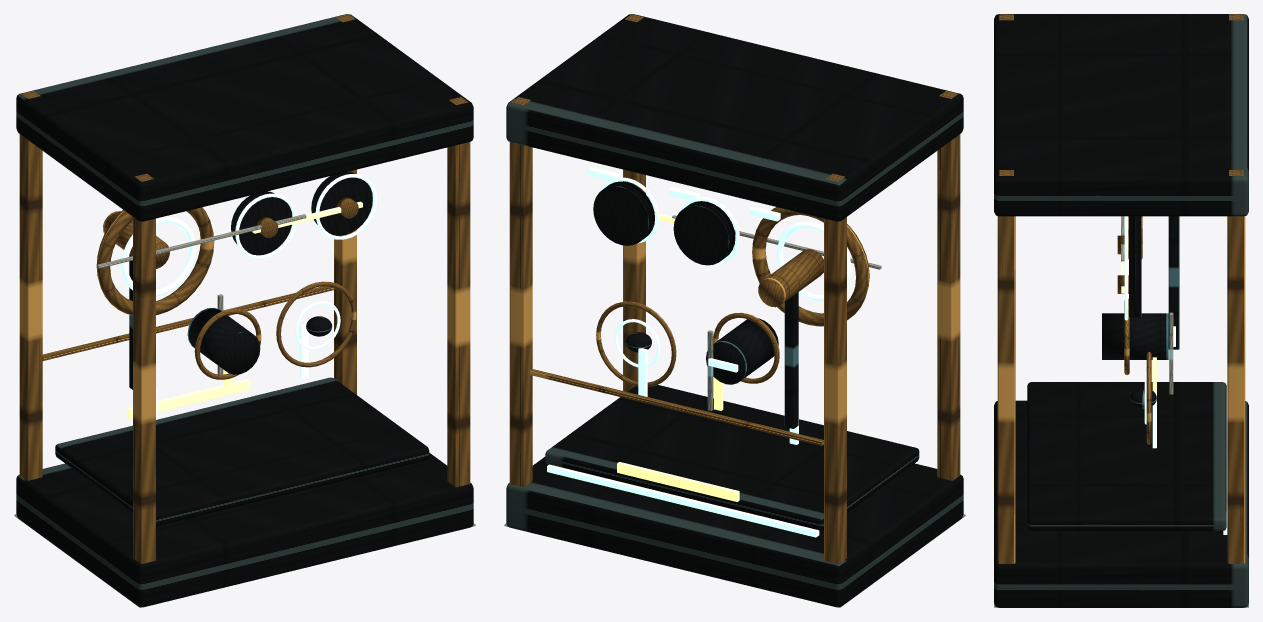
Rendered from age_museum_voice_booth.glb.
3 views of the same model, side by side, from view 1: azimuth 30°, elevation 25°; view 2: azimuth 150°, elevation 25°; view 3: azimuth 270°, elevation 25° (orthographic).
Visible parts, largest first — view 1: voice_case_upper_cap_smoked_black_textured, voice_case_lower_plinth_smoked_black_textured, voice_case_inner_deck_smoked_display_floor, voice_case_aged_brass_corner_post_0.665_-0.415, voice_case_aged_brass_corner_post_-0.665_0.415, voice_case_aged_brass_corner_post_-0.665_-0.415, voice_asset_brass_capture_horn_outer_ring, voice_case_aged_brass_corner_post_0.665_0.415, voice_asset_larynx_memory_capsule, voice_asset_visible_tape_reel_1, voice_asset_visible_tape_reel_0, voice_case_thin_front_lip_beveled_brass (+9 smaller); view 2: voice_case_upper_cap_smoked_black_textured, voice_case_lower_plinth_smoked_black_textured, voice_case_inner_deck_smoked_display_floor, voice_case_aged_brass_corner_post_0.665_0.415, voice_case_aged_brass_corner_post_-0.665_-0.415, voice_case_aged_brass_corner_post_-0.665_0.415, voice_asset_visible_tape_reel_0, voice_asset_visible_tape_reel_1, voice_asset_brass_capture_horn_outer_ring, voice_case_aged_brass_corner_post_0.665_-0.415, voice_asset_larynx_memory_capsule, voice_case_cyan_floor_light_line (+8 smaller); view 3: voice_case_upper_cap_smoked_black_textured, voice_case_inner_deck_smoked_display_floor, voice_case_lower_plinth_smoked_black_textured, voice_case_aged_brass_corner_post_0.665_-0.415, voice_case_aged_brass_corner_post_0.665_0.415, voice_asset_larynx_memory_capsule, voice_asset_horn_vertical_support_arm, voice_asset_visible_tape_reel_1, voice_asset_outer_vibration_membrane_ring, contact_shadow_grounded, voice_asset_visible_tape_reel_0, voice_asset_vertical_microphone_comb_0 (+1 smaller).
Boxes of the visible parts, left/top/right/bottom form: voice_case_upper_cap_smoked_black_textured: left=16, top=14, right=473, bottom=221; voice_case_lower_plinth_smoked_black_textured: left=16, top=453, right=473, bottom=607; voice_case_inner_deck_smoked_display_floor: left=55, top=377, right=429, bottom=526; voice_case_aged_brass_corner_post_0.665_-0.415: left=447, top=97, right=470, bottom=487; voice_case_aged_brass_corner_post_-0.665_0.415: left=19, top=91, right=42, bottom=480; voice_case_aged_brass_corner_post_-0.665_-0.415: left=133, top=173, right=155, bottom=563; voice_asset_brass_capture_horn_outer_ring: left=96, top=207, right=214, bottom=315; voice_case_aged_brass_corner_post_0.665_0.415: left=334, top=14, right=356, bottom=394; voice_asset_larynx_memory_capsule: left=187, top=308, right=260, bottom=374; voice_asset_visible_tape_reel_1: left=311, top=171, right=372, bottom=235; voice_asset_visible_tape_reel_0: left=231, top=191, right=292, bottom=255; voice_case_thin_front_lip_beveled_brass: left=42, top=286, right=334, bottom=360; voice_case_upper_cap_smoked_black_textured: left=506, top=14, right=963, bottom=221; voice_case_lower_plinth_smoked_black_textured: left=506, top=457, right=963, bottom=607; voice_case_inner_deck_smoked_display_floor: left=545, top=385, right=919, bottom=530; voice_case_aged_brass_corner_post_0.665_0.415: left=509, top=97, right=532, bottom=487; voice_case_aged_brass_corner_post_-0.665_-0.415: left=937, top=91, right=960, bottom=480; voice_case_aged_brass_corner_post_-0.665_0.415: left=824, top=173, right=846, bottom=563; voice_asset_visible_tape_reel_0: left=673, top=201, right=735, bottom=265; voice_asset_visible_tape_reel_1: left=593, top=181, right=654, bottom=245; voice_asset_brass_capture_horn_outer_ring: left=752, top=207, right=869, bottom=326; voice_case_aged_brass_corner_post_0.665_-0.415: left=623, top=14, right=645, bottom=391; voice_asset_larynx_memory_capsule: left=706, top=318, right=778, bottom=384; voice_case_cyan_floor_light_line: left=547, top=464, right=819, bottom=537; voice_case_upper_cap_smoked_black_textured: left=994, top=14, right=1248, bottom=216; voice_case_inner_deck_smoked_display_floor: left=1027, top=382, right=1226, bottom=530; voice_case_lower_plinth_smoked_black_textured: left=994, top=400, right=1248, bottom=607; voice_case_aged_brass_corner_post_0.665_-0.415: left=997, top=170, right=1015, bottom=563; voice_case_aged_brass_corner_post_0.665_0.415: left=1227, top=170, right=1245, bottom=563; voice_asset_larynx_memory_capsule: left=1102, top=313, right=1168, bottom=359; voice_asset_horn_vertical_support_arm: left=1168, top=216, right=1179, bottom=349; voice_asset_visible_tape_reel_1: left=1129, top=252, right=1141, bottom=317; voice_asset_outer_vibration_membrane_ring: left=1146, top=351, right=1151, bottom=444; contact_shadow_grounded: left=994, top=604, right=1248, bottom=607; voice_asset_visible_tape_reel_0: left=1129, top=216, right=1141, bottom=251; voice_asset_vertical_microphone_comb_0: left=1169, top=312, right=1173, bottom=394.
Size of the model in its own units: 1.42 by 1.72 by 0.92.
Materials: 9 (5 with a texture image).
